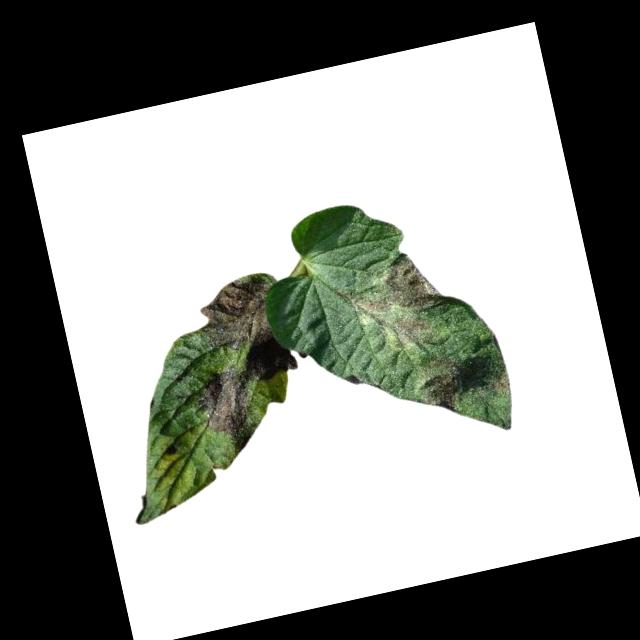Late_blight: (194, 267, 300, 391), (349, 246, 445, 323), (191, 363, 256, 438), (384, 308, 437, 354), (418, 369, 463, 417), (486, 370, 512, 396)
